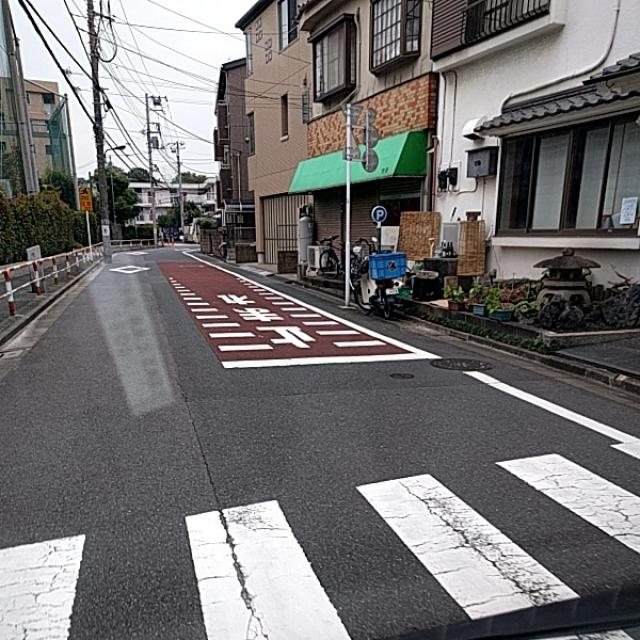pothole: (218, 509, 290, 628)
